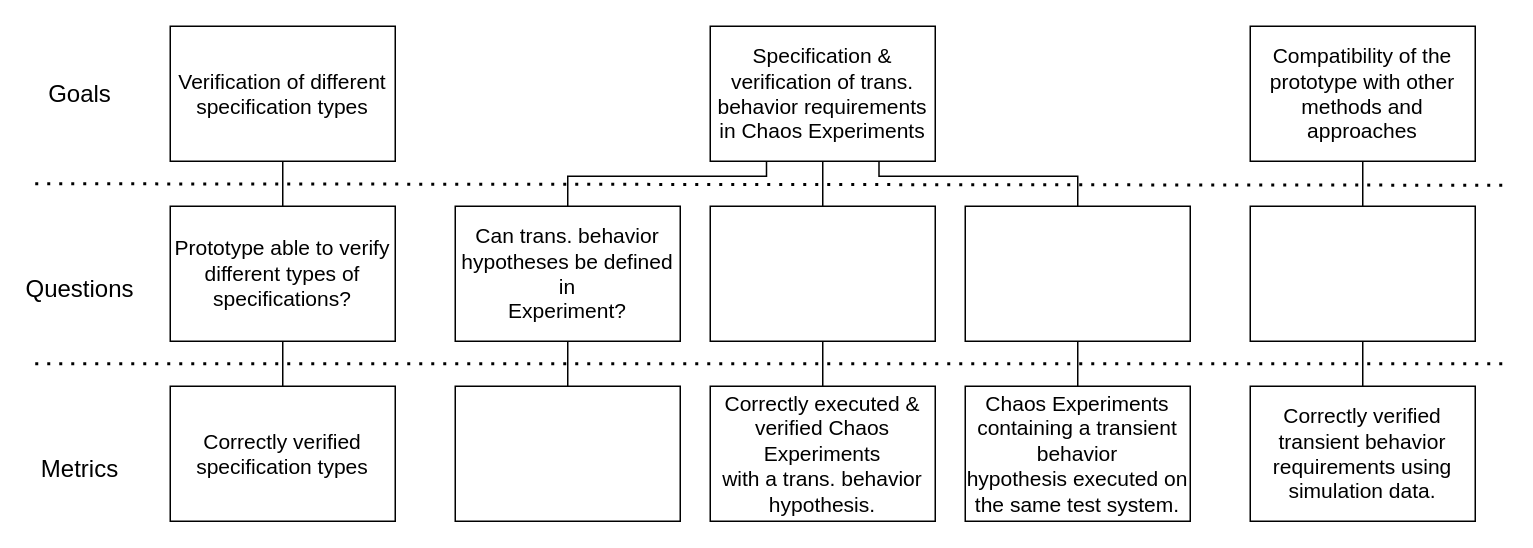
Some shapes in this 1533 by 548 pixel diagram are drawn without their labels. Here are the shapes that lost their labels. From the top down, the box of each, then its label:
(709, 205, 935, 341): Can trans. behavior hypotheses be verified in Chaos Experiment?
(964, 205, 1190, 341): Execute and verify multiple Chaos Experiments on the same system?
(1249, 205, 1475, 341): Use prototype with simulation data from a microservice simulation approach?
(454, 385, 680, 521): Transient behavior hypotheses specified in Chaos Experiments
